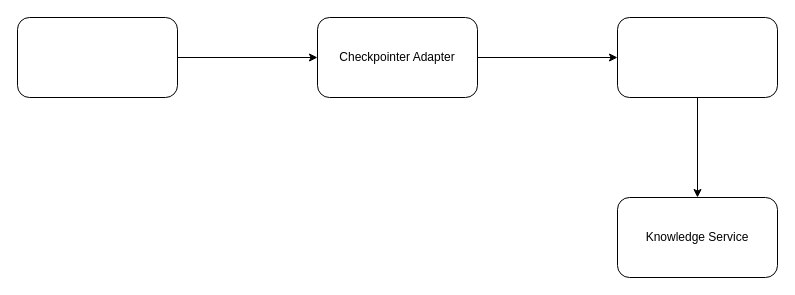
Some shapes in this 795 by 295 pixel diagram are drawn without their labels. Here are the shapes that lost their labels. From the top down, the centre of each, then its label:
(x=97, y=57): PiWorkflow Engine
(x=697, y=57): RemoteCheckpointer
